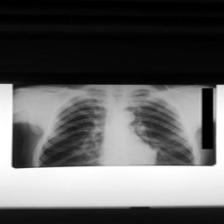tuberculosis: (31, 85, 200, 167)
